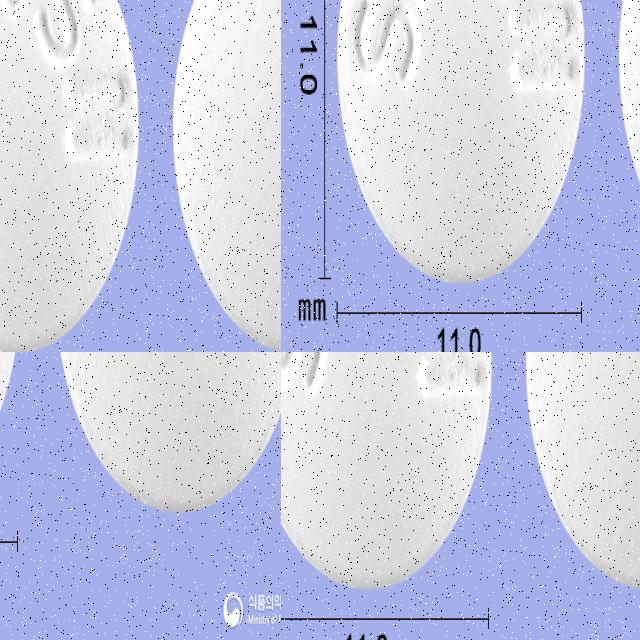Baracle: (440, 69, 640, 352)
Ciflonew: (281, 352, 496, 597), (522, 352, 640, 598)
Clathron: (0, 352, 136, 626)
Cq Robey: (220, 14, 281, 242), (0, 16, 59, 240)
